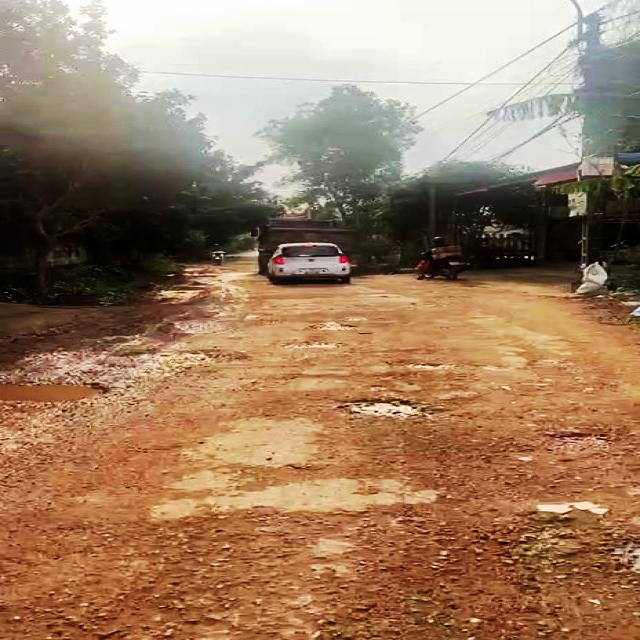pothole: (0, 373, 119, 409), (538, 427, 640, 461), (336, 393, 438, 422)
